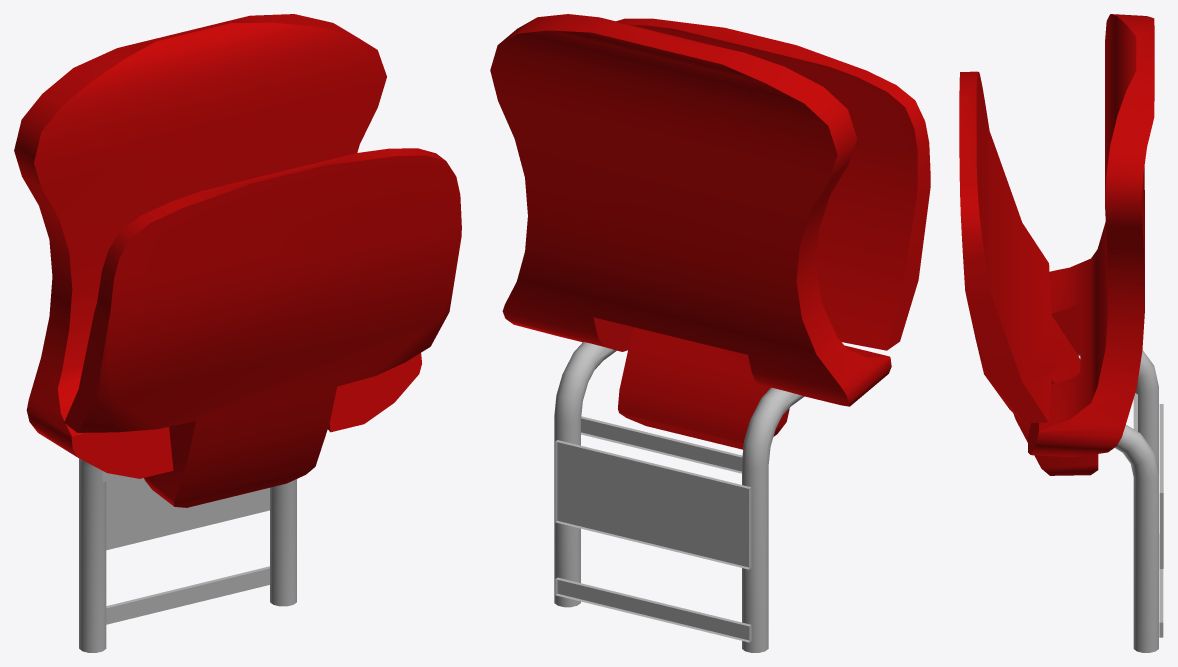
Rendered from Gym Seat.fbx.
The picture shows the model from 3 angles, left to right: view 1: azimuth 30°, elevation 25°; view 2: azimuth 150°, elevation 25°; view 3: azimuth 270°, elevation 25°; orthographic projection. The views are drawn at different scales.
Visible parts, largest first — view 1: seat, back, metal; view 2: back, seat, metal; view 3: back, seat, metal.
Boxes of the visible parts, x1=… form: seat: x1=64, y1=148, x2=461, y2=507; back: x1=14, y1=14, x2=421, y2=478; metal: x1=79, y1=458, x2=296, y2=652; back: x1=490, y1=14, x2=891, y2=406; seat: x1=616, y1=18, x2=930, y2=449; metal: x1=554, y1=342, x2=804, y2=652; back: x1=1028, y1=14, x2=1154, y2=457; seat: x1=959, y1=71, x2=1098, y2=475; metal: x1=1078, y1=350, x2=1163, y2=652.
Bounding box in the file's own units: 70.87 × 114 × 38.42.
